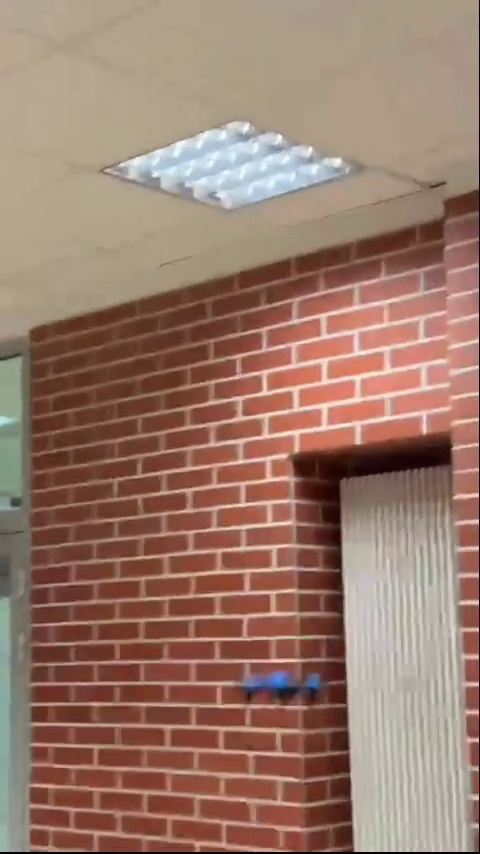drone: (240, 674, 326, 705)
